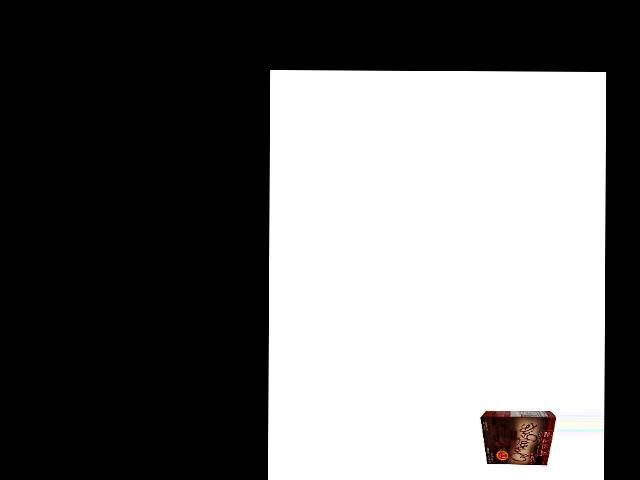chocolate: (480, 410, 554, 466)
